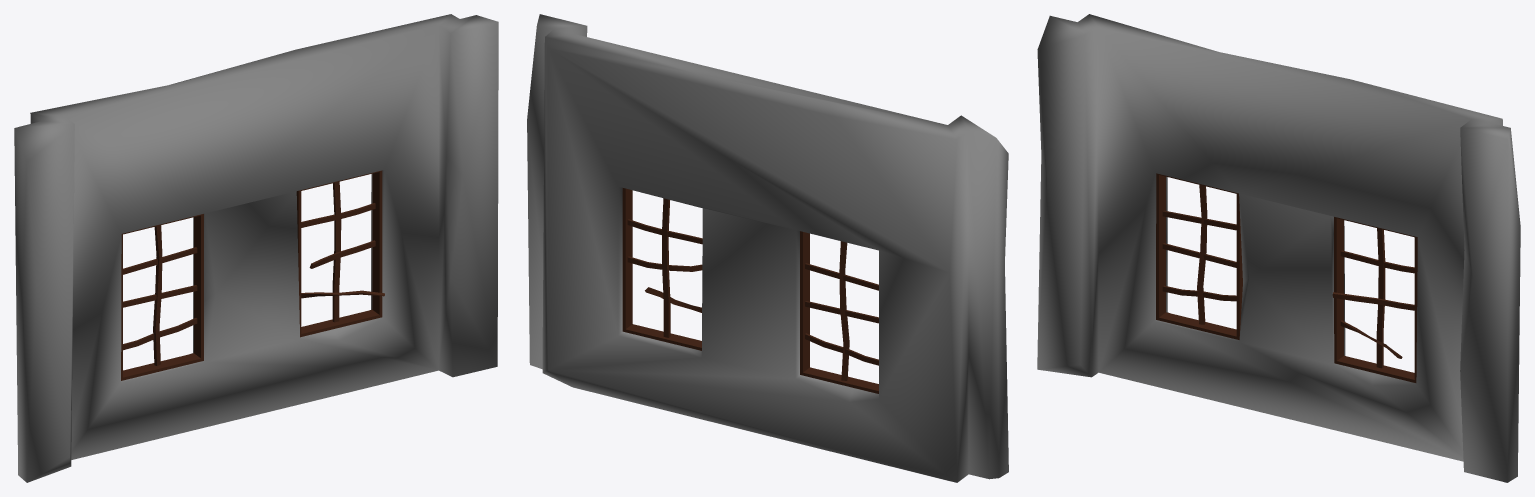
File: SM_wall_niche_window.fbx
3 renders of one model, left to right at view 1: azimuth 30°, elevation 25°; view 2: azimuth 150°, elevation 25°; view 3: azimuth 330°, elevation 25°, orthographic.
Visible parts, largest first — view 1: Object027; view 2: Object027; view 3: Object027.
Boxes of the visible parts, x1,y1,x2,y2 form: Object027: [14, 14, 498, 482]; Object027: [527, 14, 1008, 482]; Object027: [1037, 14, 1520, 482].
Size of the model in its own units: 197 by 139 by 17.75.
